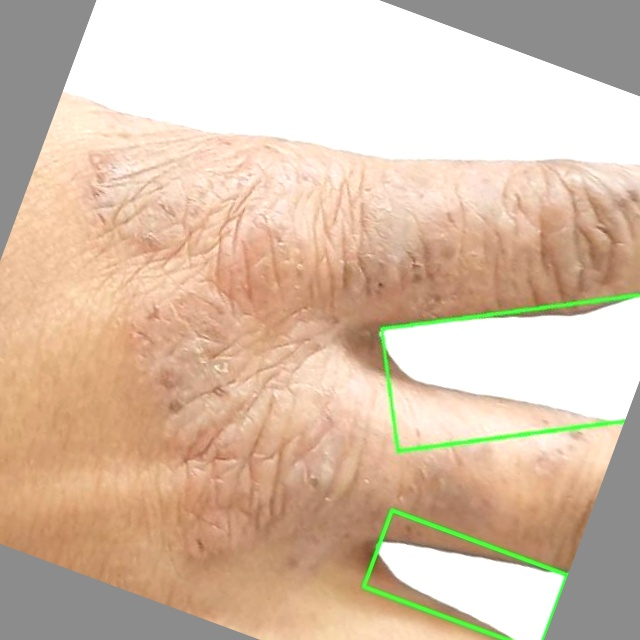Eczema: (368, 265, 639, 452), (364, 510, 567, 639)
